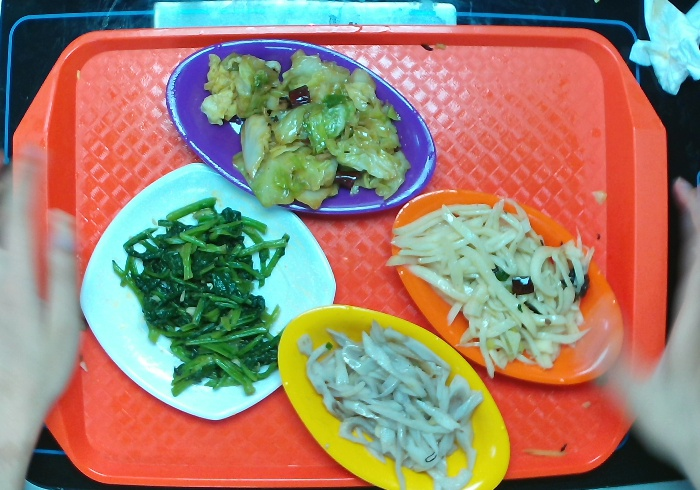RJxy-Fen_Hong_Tuo_Yuan: (164, 37, 438, 216)
RJxy-Huang_Se_Tuo_Yuan: (276, 303, 512, 490)
RJxy-Ju_Huang_Tuo_Yuan: (389, 187, 625, 386)
RJxy-Si_Fang_Die: (78, 161, 338, 421)
